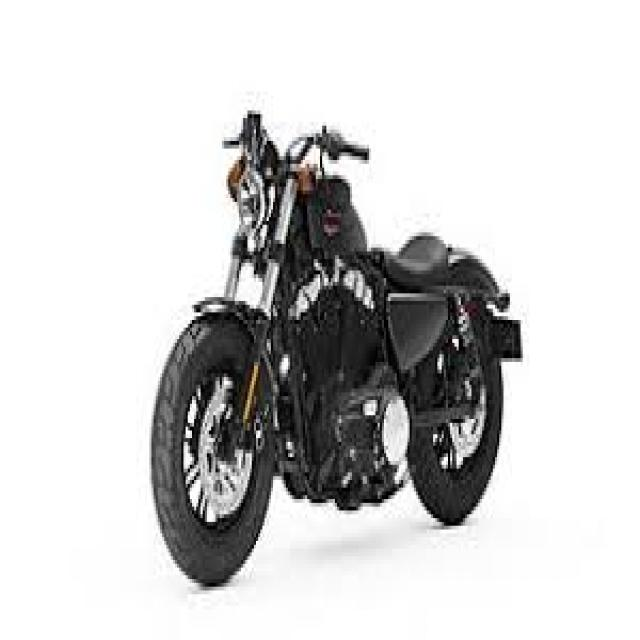Bike: (150, 110, 523, 589)
